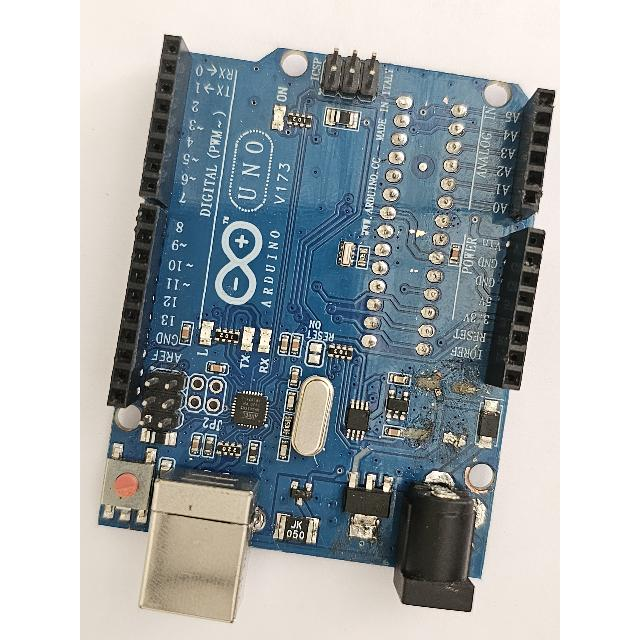missing_atmega: (357, 87, 475, 364)
missing_capacitors: (404, 368, 484, 463)
